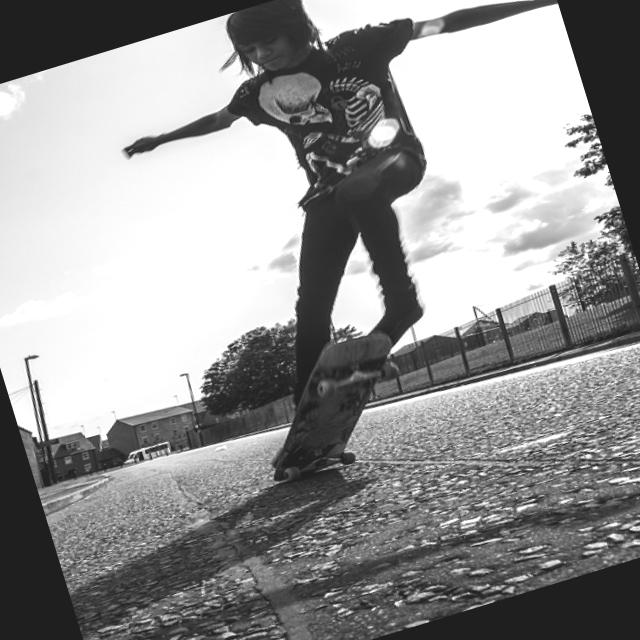Vehicle: (119, 439, 172, 469)
